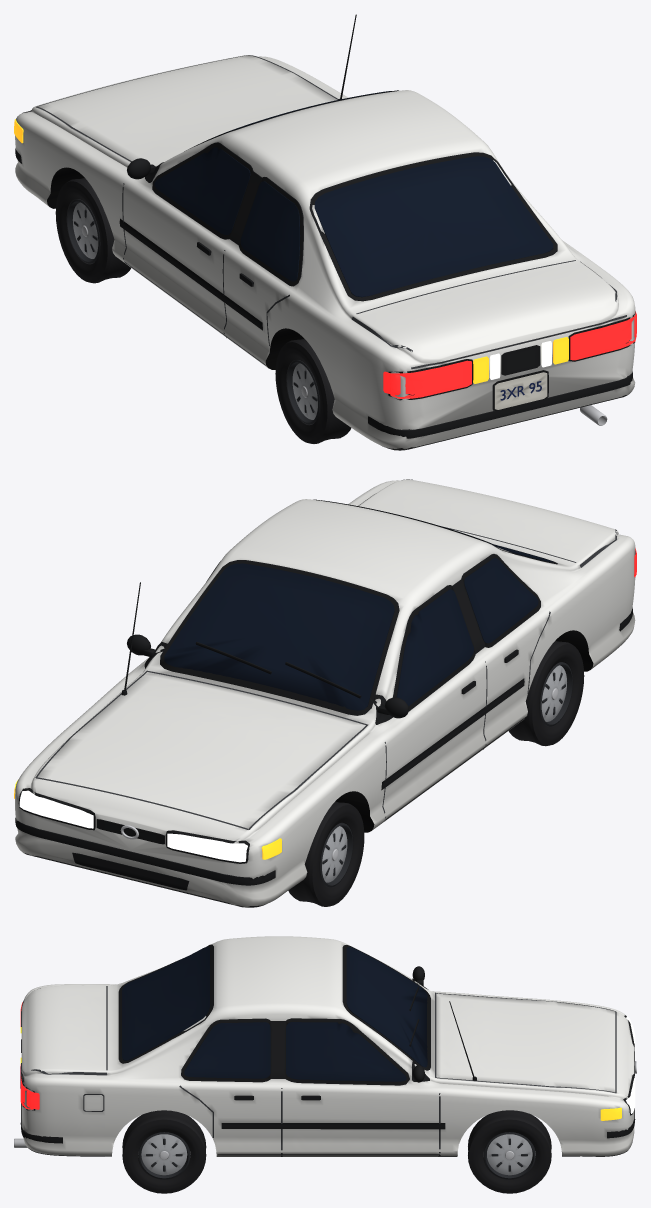
File: corolla.glb
The picture shows the model from 3 angles, top to bottom: view 1: azimuth 30°, elevation 25°; view 2: azimuth 150°, elevation 25°; view 3: azimuth 270°, elevation 25°; orthographic projection. The views are drawn at different scales.
Visible parts, largest first — view 1: body, wheel_RL, wheel_FL; view 2: body, wheel_FL, wheel_RL; view 3: body, wheel_RR, wheel_FR.
Boxes of the visible parts, x1=… form: body: x1=14, y1=14, x2=636, y2=450; wheel_RL: x1=275, y1=338, x2=351, y2=443; wheel_FL: x1=55, y1=178, x2=130, y2=283; body: x1=14, y1=479, x2=636, y2=907; wheel_FL: x1=288, y1=801, x2=364, y2=906; wheel_RL: x1=509, y1=641, x2=584, y2=746; body: x1=14, y1=936, x2=636, y2=1156; wheel_RR: x1=122, y1=1110, x2=206, y2=1193; wheel_FR: x1=468, y1=1110, x2=551, y2=1193.
Size of the model in its own units: 1.82 by 1.46 by 4.45.
